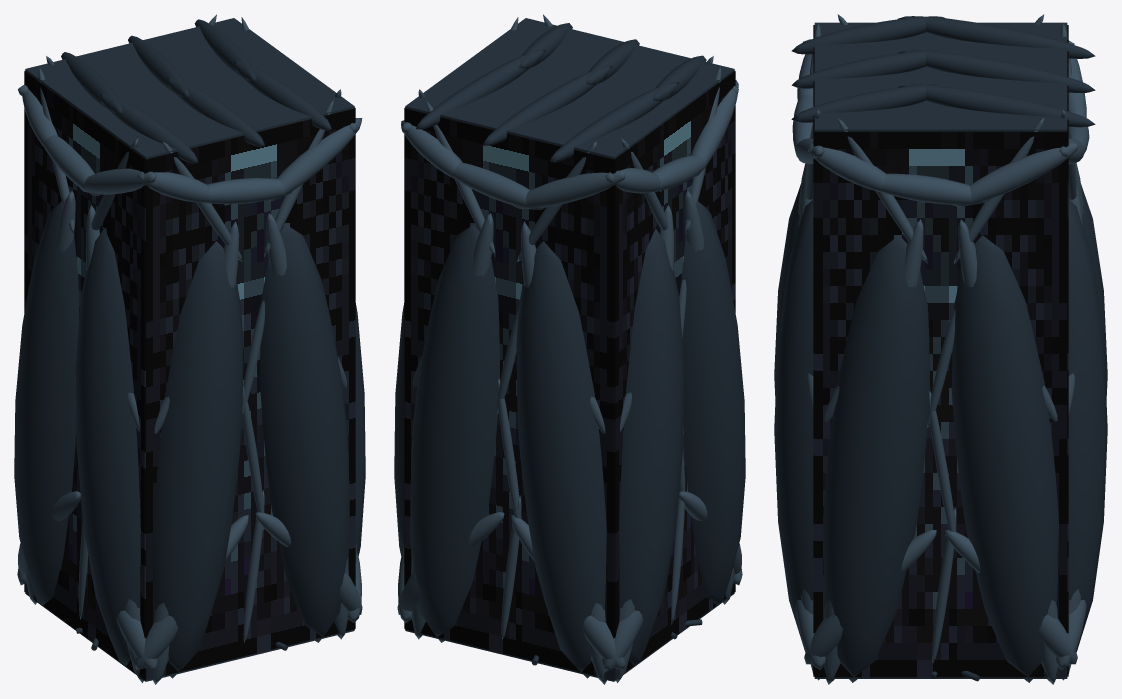
Rendered from CMU3DHiveWallXenoResinThickWeedbound.glb.
3 renders of one model, left to right at view 1: azimuth 30°, elevation 25°; view 2: azimuth 150°, elevation 25°; view 3: azimuth 270°, elevation 25°, orthographic. The views are drawn at different scales.
Parts seen in each view (by area): view 1: broad exoskeletal fold (×5), source resin skin front and rear, source resin skin sides, continuous resin backing, sealed roof fold (×6), crown collar (×6), arching load-bearing tendon (×7), lower root buttress (×5), central interlocking seam (×4); view 2: broad exoskeletal fold (×5), source resin skin front and rear, source resin skin sides, continuous resin backing, sealed roof fold (×6), crown collar (×6), arching load-bearing tendon (×7), central interlocking seam (×4), lower root buttress (×4); view 3: broad exoskeletal fold (×6), source resin skin sides, continuous resin backing, sealed roof fold (×6), crown collar (×5), lower root buttress (×6), arching load-bearing tendon (×6), central interlocking seam (×3), source resin skin front and rear (×2).
Boxes of the visible parts, x1=… form: broad exoskeletal fold (×5): x1=14, y1=201, x2=365, y2=678; source resin skin front and rear: x1=146, y1=108, x2=355, y2=679; source resin skin sides: x1=24, y1=71, x2=145, y2=679; continuous resin backing: x1=25, y1=18, x2=354, y2=681; sealed roof fold (×6): x1=61, y1=19, x2=331, y2=163; crown collar (×6): x1=22, y1=89, x2=362, y2=204; arching load-bearing tendon (×7): x1=38, y1=66, x2=333, y2=287; lower root buttress (×5): x1=52, y1=491, x2=362, y2=671; central interlocking seam (×4): x1=78, y1=300, x2=264, y2=642; broad exoskeletal fold (×5): x1=394, y1=201, x2=745, y2=678; source resin skin front and rear: x1=404, y1=108, x2=613, y2=679; source resin skin sides: x1=614, y1=71, x2=735, y2=679; continuous resin backing: x1=405, y1=18, x2=734, y2=681; sealed roof fold (×6): x1=416, y1=23, x2=706, y2=162; crown collar (×6): x1=401, y1=80, x2=738, y2=209; arching load-bearing tendon (×7): x1=426, y1=66, x2=721, y2=287; central interlocking seam (×4): x1=497, y1=307, x2=685, y2=639; lower root buttress (×4): x1=397, y1=512, x2=643, y2=671; broad exoskeletal fold (×6): x1=774, y1=183, x2=1107, y2=682; source resin skin sides: x1=814, y1=131, x2=1067, y2=677; continuous resin backing: x1=814, y1=22, x2=1067, y2=678; sealed roof fold (×6): x1=791, y1=16, x2=1095, y2=127; crown collar (×5): x1=792, y1=40, x2=1086, y2=206; lower root buttress (×6): x1=795, y1=530, x2=1086, y2=669; arching load-bearing tendon (×6): x1=824, y1=118, x2=1057, y2=684; central interlocking seam (×3): x1=927, y1=309, x2=956, y2=662; source resin skin front and rear (×2): x1=813, y1=25, x2=1068, y2=676.
Bounding box in the file's own units: 1.32 × 2.51 × 1.32.
3 materials, 1 textured.
